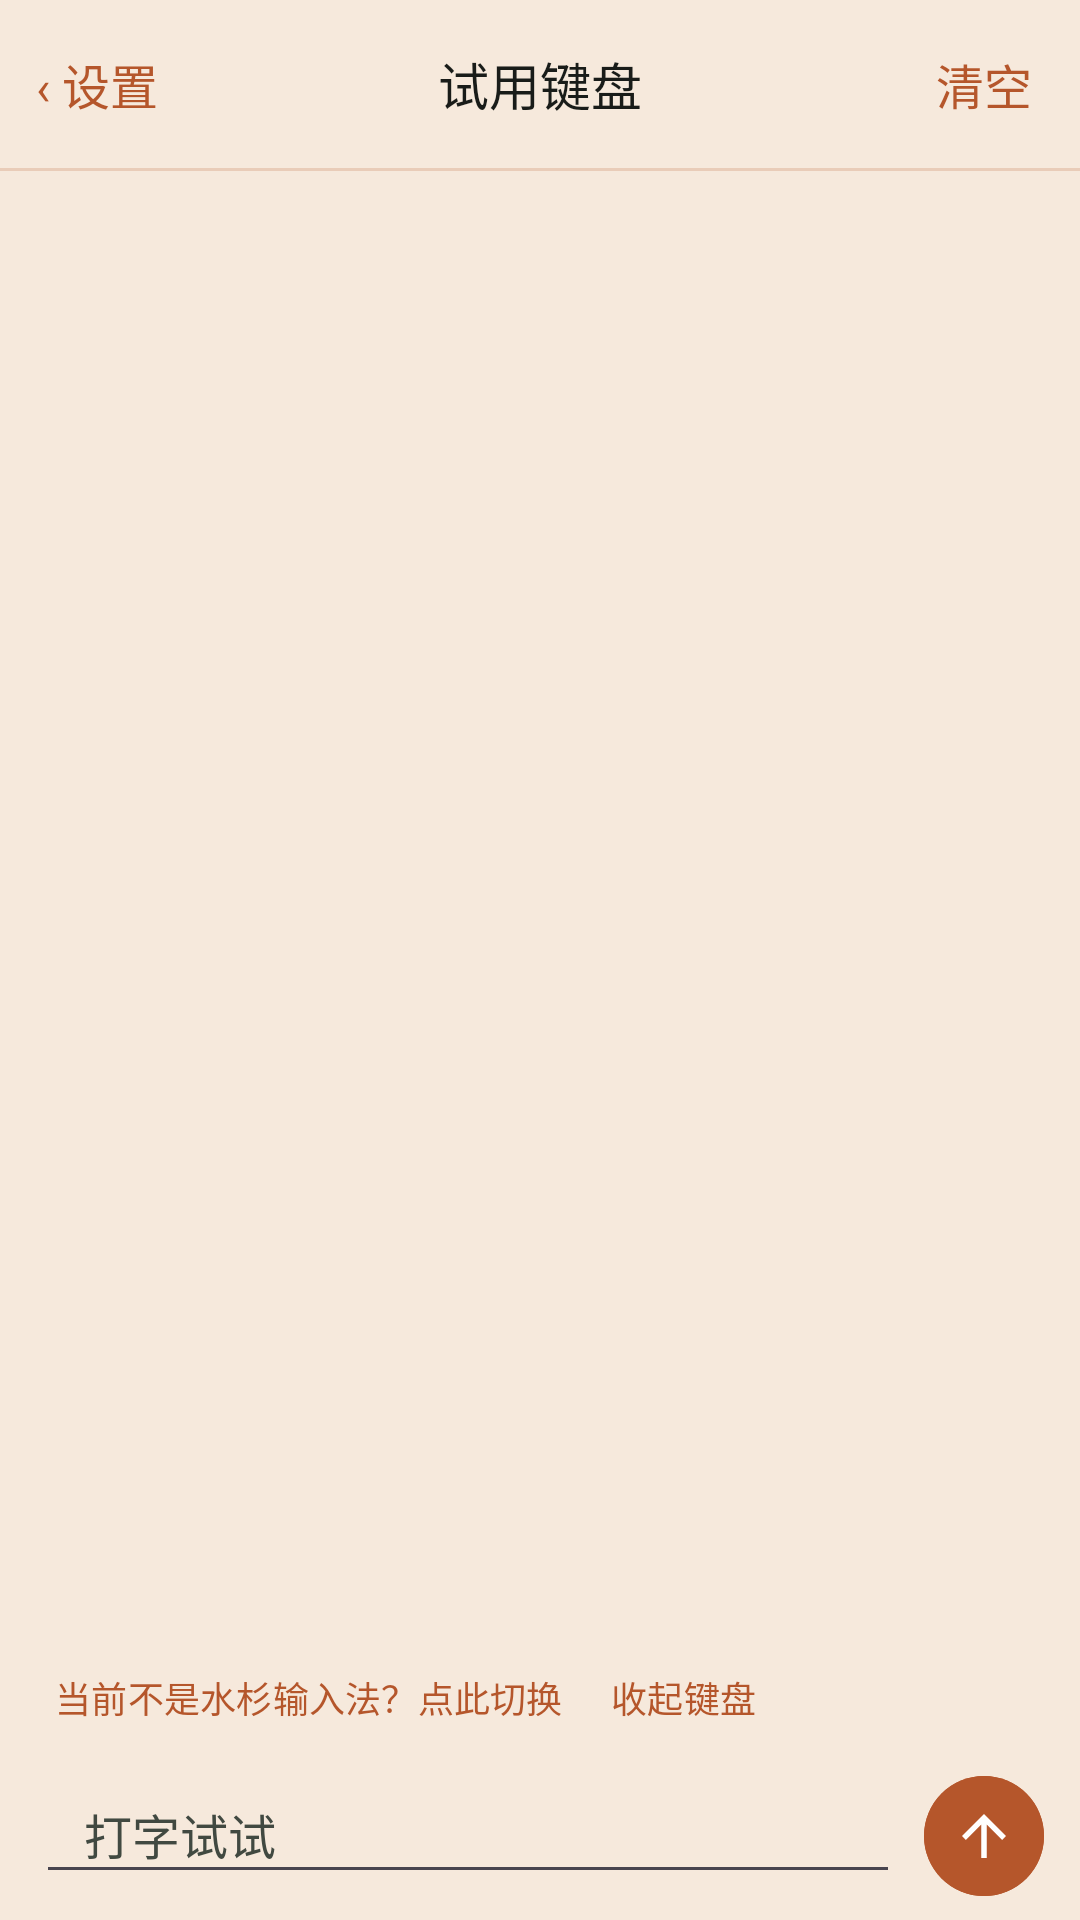

Locate icon controls on the screen. Image size 1080px x 1920px, boxes as (x1, y1, x2, y2).
发送: (924, 1776, 1044, 1896)
